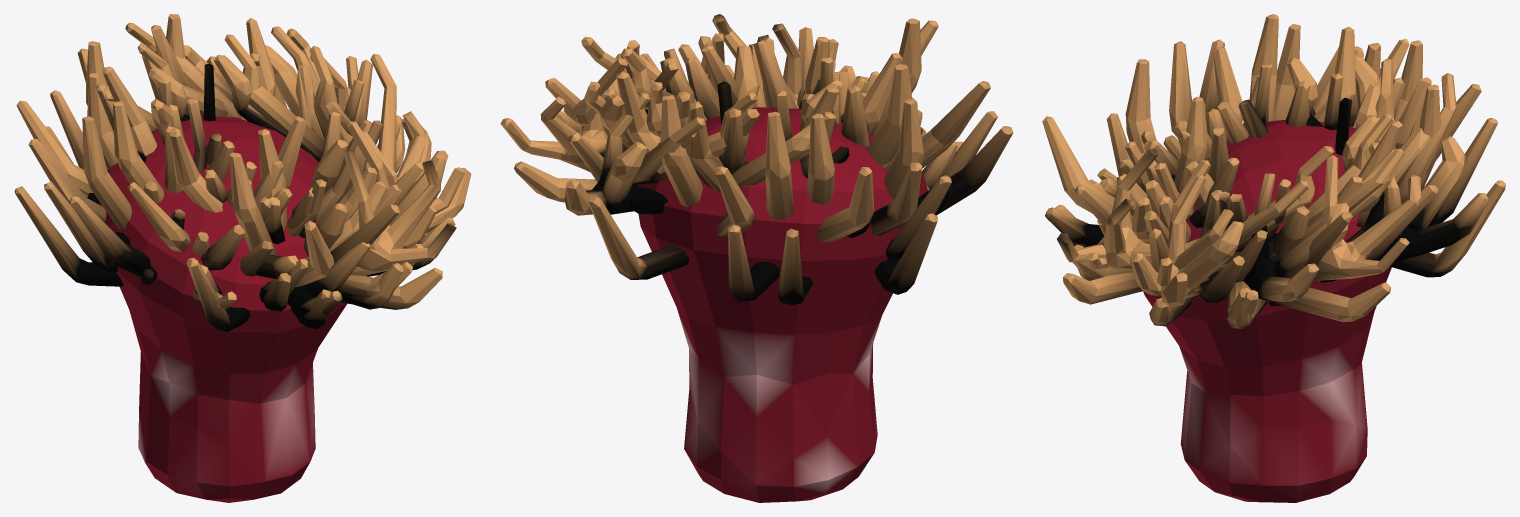
Rendered from N7_013_Haiquy.glb.
The picture shows the model from 3 angles, left to right: view 1: azimuth 30°, elevation 25°; view 2: azimuth 150°, elevation 25°; view 3: azimuth 270°, elevation 25°; orthographic projection. The views are drawn at different scales.
Parts seen in each view (by area): view 1: HQ; view 2: HQ; view 3: HQ.
Boxes of the visible parts, x1,y1,x2,y2 form: HQ: (14,14,471,502); HQ: (500,14,1013,502); HQ: (1042,14,1505,502).
Bounding box in the file's own units: 0.4 × 0.4 × 0.4.
